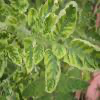Tomato leaf yellow virus: (69, 38, 99, 79), (52, 2, 81, 44), (41, 49, 61, 99), (24, 39, 38, 77), (7, 42, 21, 66), (42, 12, 56, 35), (27, 8, 39, 33), (10, 1, 26, 18), (33, 42, 44, 64), (13, 69, 20, 85)
